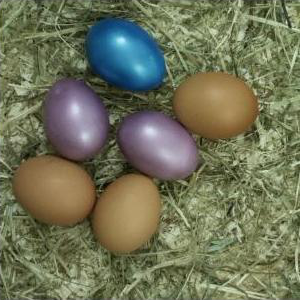egg: (12, 156, 97, 227), (173, 73, 260, 139), (86, 19, 166, 89), (93, 174, 162, 255), (118, 112, 198, 180), (44, 81, 109, 161)
